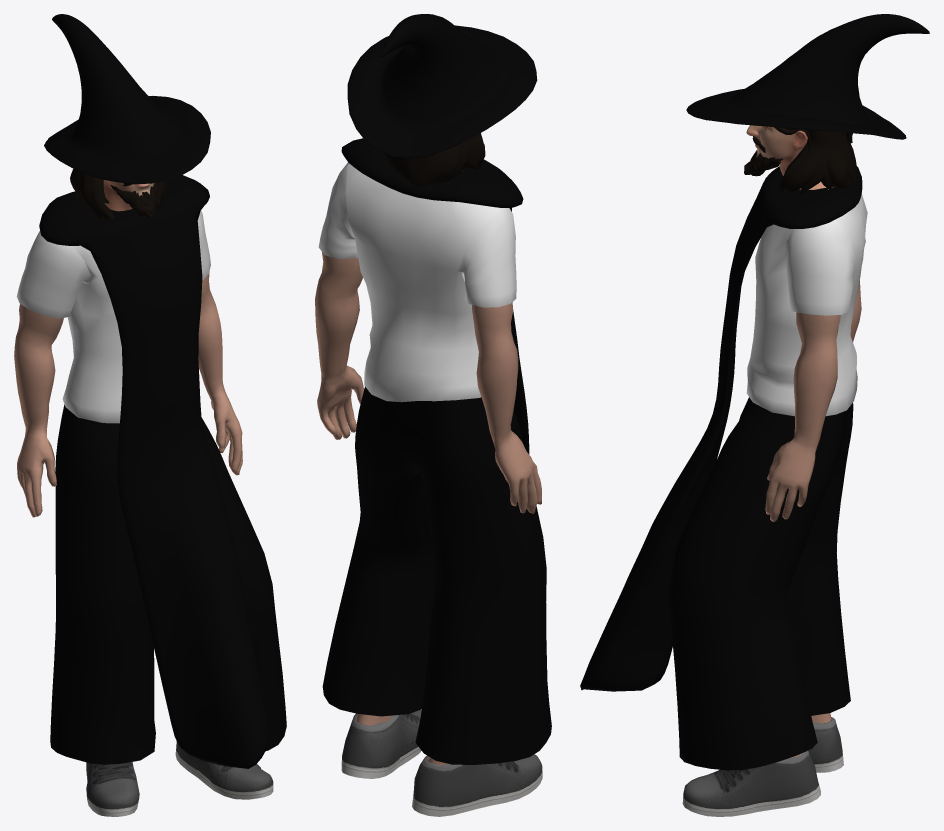
The model's file is standing-anim.fbx.
3 renders of one model, left to right at view 1: azimuth 30°, elevation 25°; view 2: azimuth 150°, elevation 25°; view 3: azimuth 270°, elevation 25°, orthographic. The views are drawn at different scales.
Visible parts, largest first — view 1: Cube.003, Corpo.003, SurfCircle.003, Wolf3D_Outfit_Top.003, Wolf3D_Body.003, Wolf3D_Outfit_Footwear.003, Wolf3D_Hair.003, Wolf3D_Beard.003, Wolf3D_Head.003; view 2: Corpo.003, Wolf3D_Outfit_Top.003, SurfCircle.003, Wolf3D_Body.003, Wolf3D_Outfit_Footwear.003, Cube.003, Wolf3D_Hair.003; view 3: Corpo.003, Cube.003, Wolf3D_Outfit_Top.003, SurfCircle.003, Wolf3D_Body.003, Wolf3D_Outfit_Footwear.003, Wolf3D_Hair.003, Wolf3D_Head.003, Wolf3D_Beard.003.
Boxes of the visible parts, left/top/right/bottom form: Cube.003: left=39, top=175, right=268, bottom=768; Corpo.003: left=50, top=404, right=286, bottom=764; SurfCircle.003: left=44, top=14, right=210, bottom=184; Wolf3D_Outfit_Top.003: left=16, top=210, right=210, bottom=423; Wolf3D_Body.003: left=14, top=272, right=242, bottom=517; Wolf3D_Outfit_Footwear.003: left=86, top=741, right=273, bottom=816; Wolf3D_Hair.003: left=70, top=168, right=165, bottom=219; Wolf3D_Beard.003: left=110, top=182, right=158, bottom=218; Wolf3D_Head.003: left=103, top=180, right=154, bottom=211; Corpo.003: left=322, top=386, right=551, bottom=764; Wolf3D_Outfit_Top.003: left=318, top=162, right=516, bottom=402; SurfCircle.003: left=347, top=14, right=537, bottom=159; Wolf3D_Body.003: left=315, top=252, right=541, bottom=765; Wolf3D_Outfit_Footwear.003: left=341, top=709, right=542, bottom=816; Cube.003: left=341, top=138, right=529, bottom=454; Wolf3D_Hair.003: left=385, top=133, right=485, bottom=186; Corpo.003: left=668, top=397, right=853, bottom=770; Cube.003: left=580, top=166, right=862, bottom=691; Wolf3D_Outfit_Top.003: left=746, top=187, right=867, bottom=416; SurfCircle.003: left=686, top=14, right=929, bottom=139; Wolf3D_Body.003: left=765, top=280, right=861, bottom=758; Wolf3D_Outfit_Footwear.003: left=682, top=717, right=843, bottom=816; Wolf3D_Hair.003: left=774, top=127, right=857, bottom=194; Wolf3D_Head.003: left=746, top=125, right=825, bottom=189; Wolf3D_Beard.003: left=744, top=136, right=782, bottom=176.
Bounding box in the file's own units: 62.37 × 199 × 84.31.
Materials: 10 (6 with a texture image).
